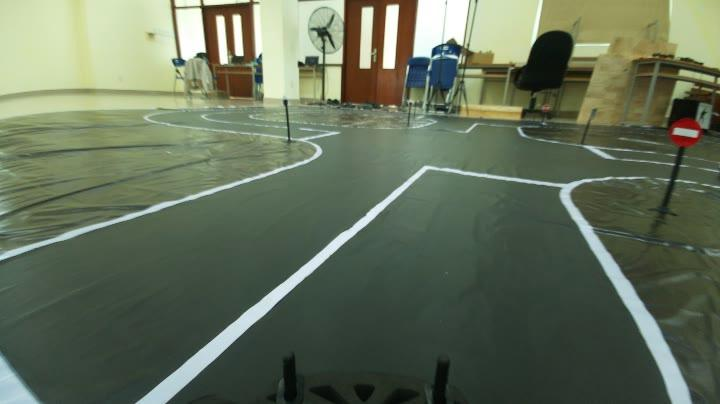no_entry: (669, 114, 702, 150)
